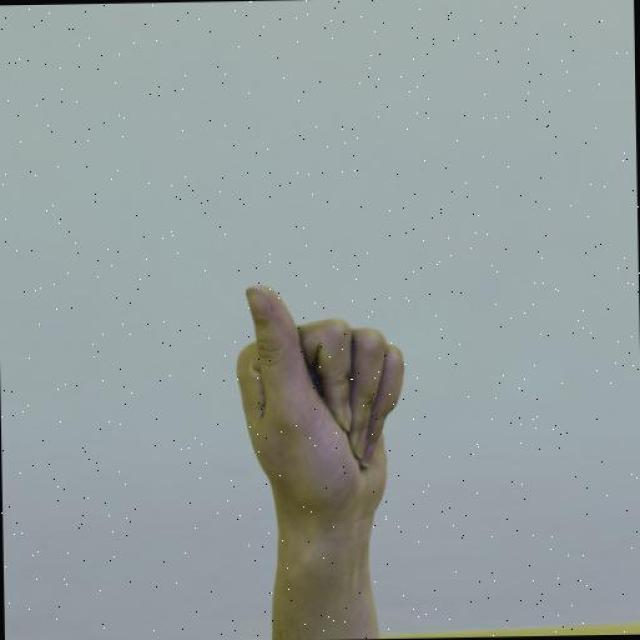A: (233, 279, 412, 526)
